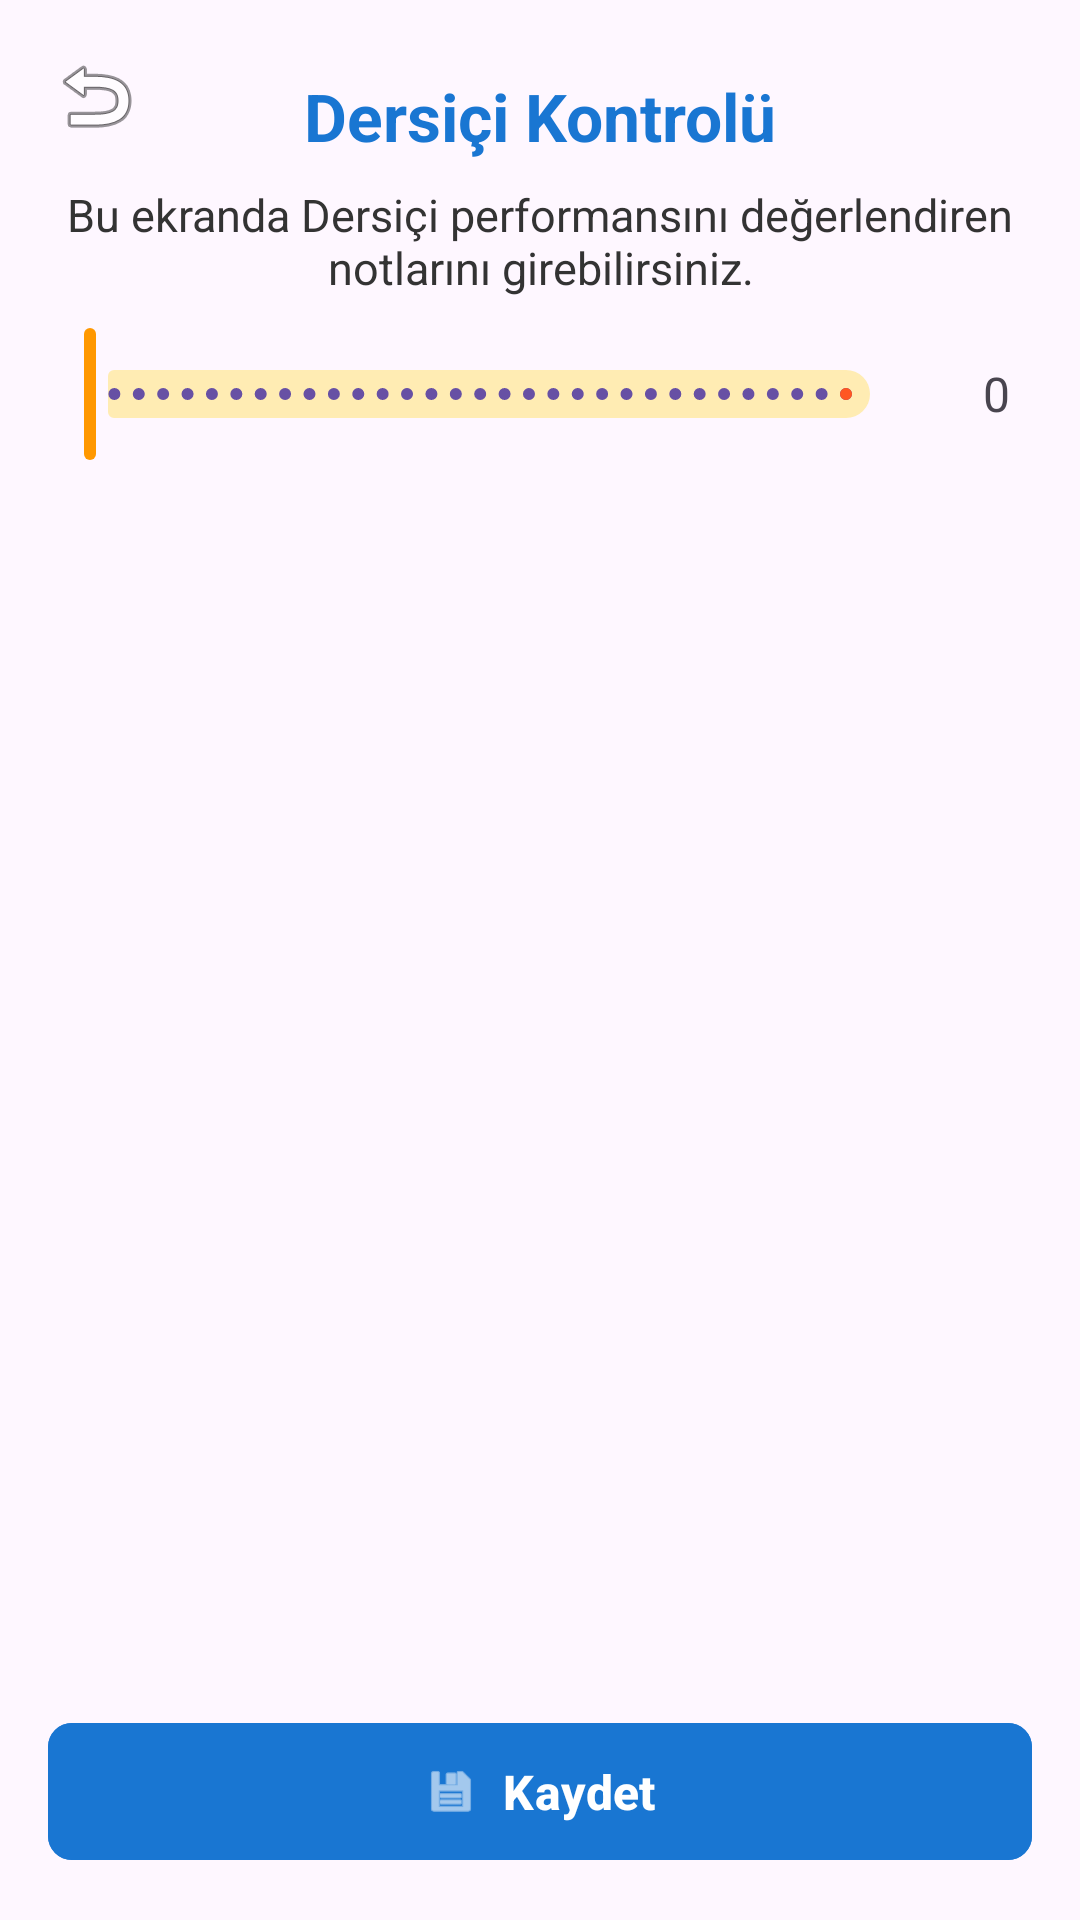

Icon click points for this 1080 x 1920 phone screenshot, format (x=x, y=y):
Geri: (x=97, y=96)
